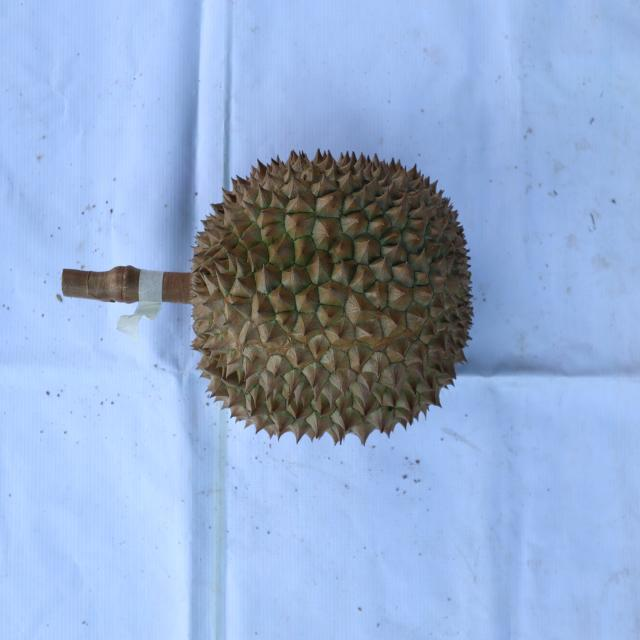mature: (187, 144, 476, 453)
